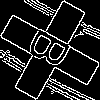B: (25, 25, 81, 77)
